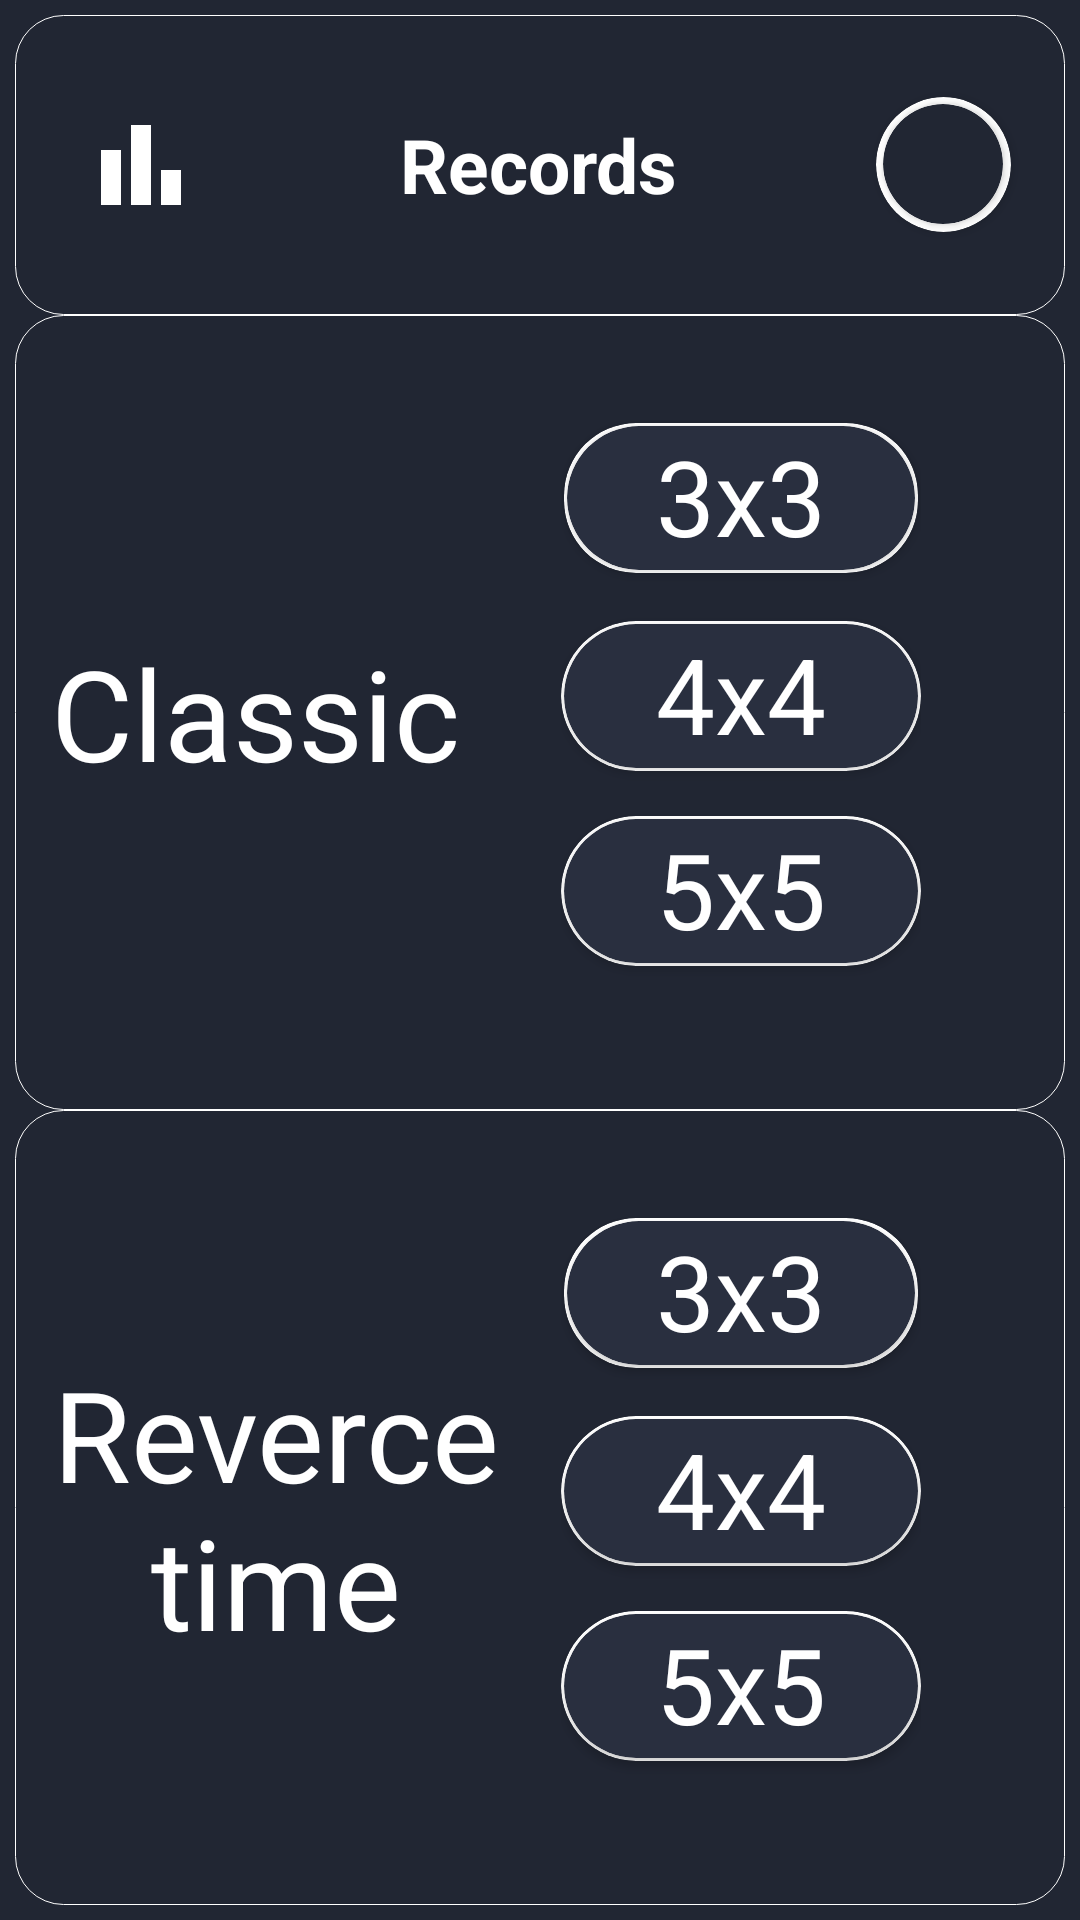

Locate icon controls on the screen. Image size 1080×1920, boxes as (x1, y1, x2, y2).
bar chart: (101, 125, 181, 205)
